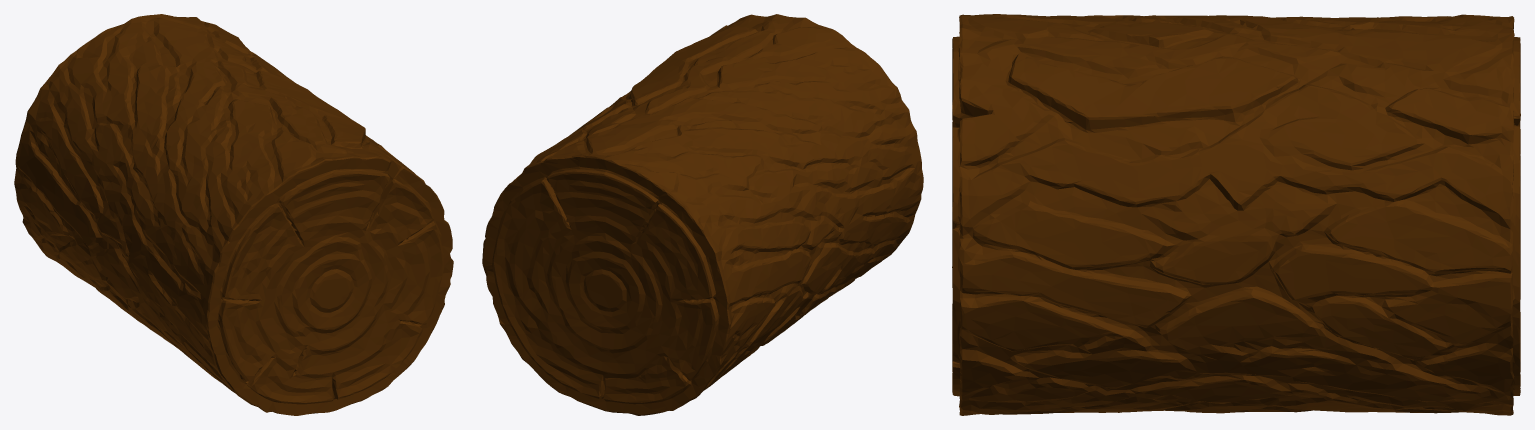
File: log.fbx
The picture shows the model from 3 angles, left to right: view 1: azimuth 30°, elevation 25°; view 2: azimuth 150°, elevation 25°; view 3: azimuth 270°, elevation 25°; orthographic projection. The views are drawn at different scales.
Parts seen in each view (by area): view 1: tmpf445cvmv.ply; view 2: tmpf445cvmv.ply; view 3: tmpf445cvmv.ply.
Part boxes in pixels (box(x1,y1,x2,y2)): tmpf445cvmv.ply: box(14, 14, 453, 415); tmpf445cvmv.ply: box(482, 14, 923, 415); tmpf445cvmv.ply: box(952, 14, 1520, 415).
Bounding box in the file's own units: 141 × 137 × 196.
